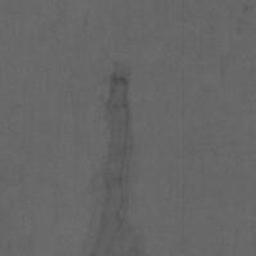Water spot: (88, 61, 147, 256), (243, 4, 252, 13)
